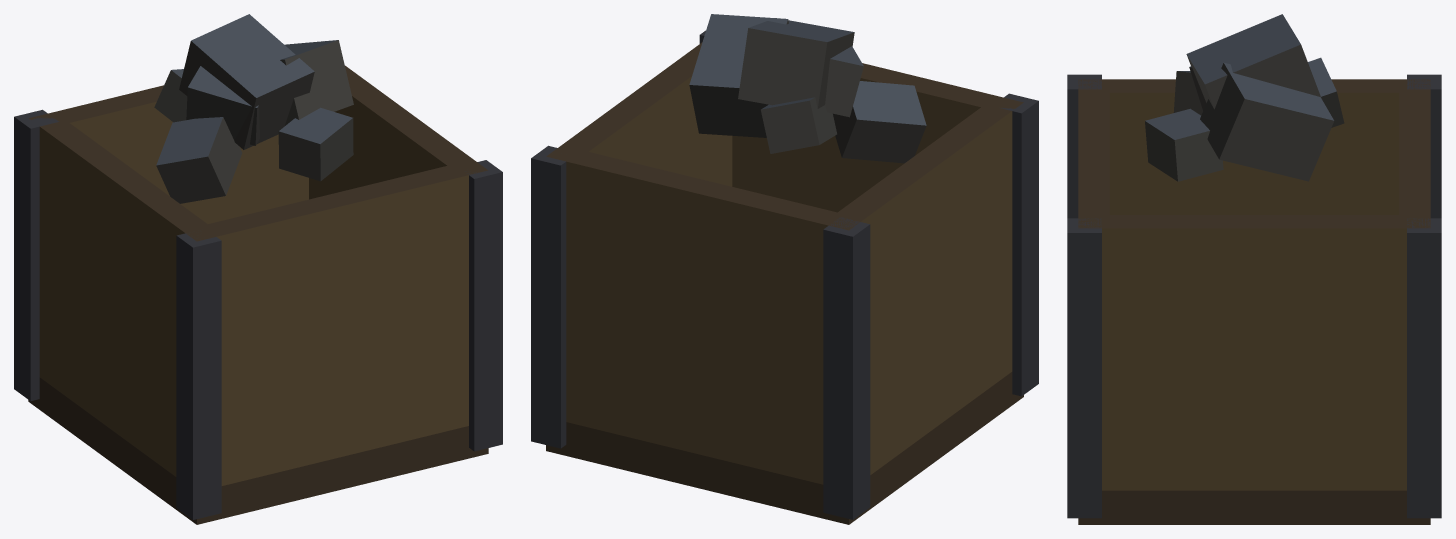
The model's file is ore-crate.glb.
3 renders of one model, left to right at view 1: azimuth 30°, elevation 25°; view 2: azimuth 150°, elevation 25°; view 3: azimuth 270°, elevation 25°, orthographic. The views are drawn at different scales.
Visible parts, largest first — view 1: OreCrate; view 2: OreCrate; view 3: OreCrate.
Boxes of the visible parts, left/top/right/bottom form: OreCrate: left=14, top=14, right=502, bottom=524; OreCrate: left=531, top=14, right=1038, bottom=524; OreCrate: left=1067, top=14, right=1441, bottom=524.
Size of the model in its own units: 0.595 by 0.7235 by 0.595.
Materials: 1 (1 with a texture image).
